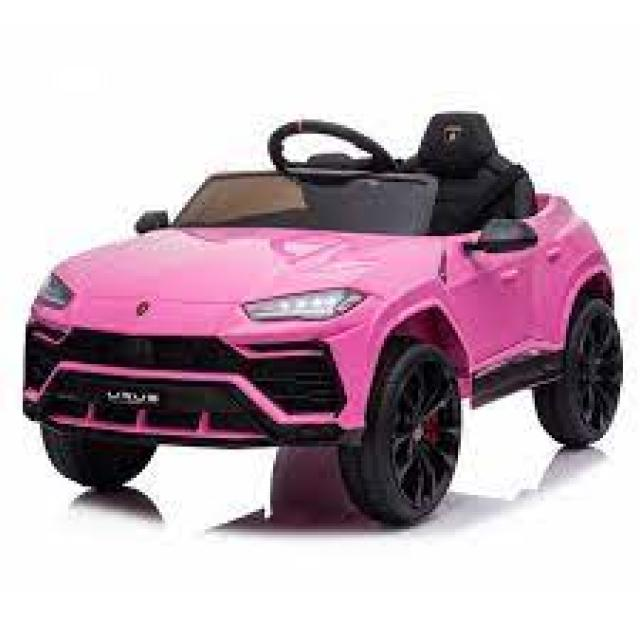Car: (20, 108, 623, 526)
